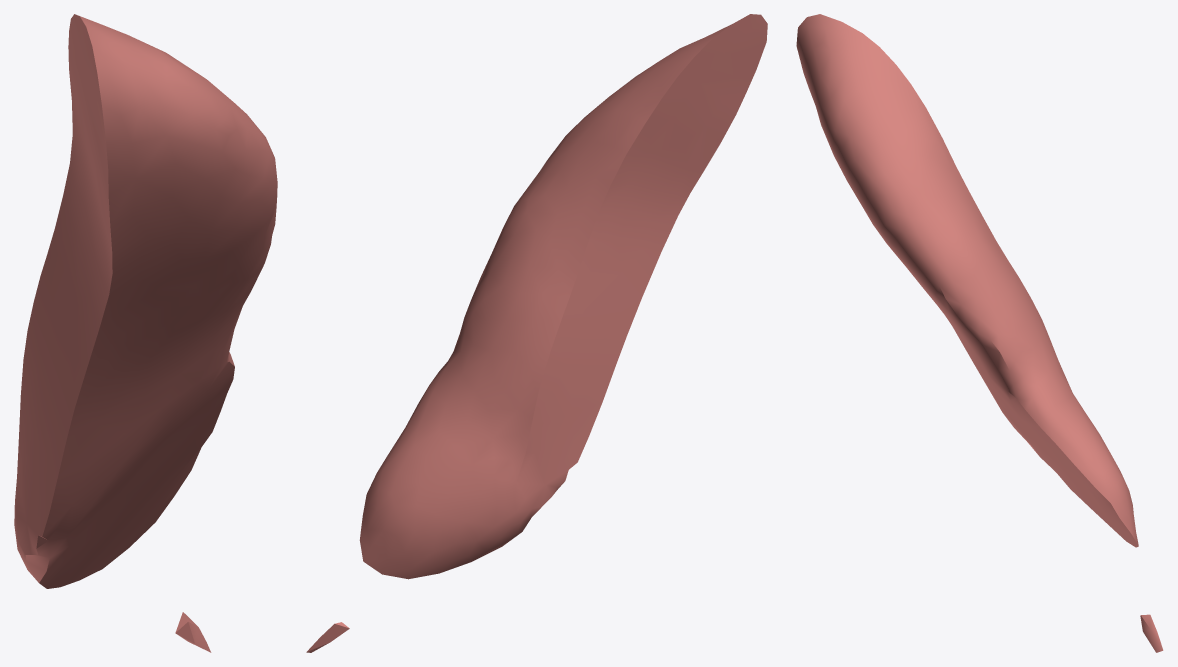
Rendered from fma298601_mm4001m.glb.
3 views of the same model, side by side, from view 1: azimuth 30°, elevation 25°; view 2: azimuth 150°, elevation 25°; view 3: azimuth 270°, elevation 25° (orthographic). The views are drawn at different scales.
Parts seen in each view (by area): view 1: FMA298601_MM4001M; view 2: FMA298601_MM4001M; view 3: FMA298601_MM4001M.
Boxes of the visible parts, x1,y1,x2,y2 form: FMA298601_MM4001M: (14, 14, 277, 652); FMA298601_MM4001M: (306, 14, 767, 652); FMA298601_MM4001M: (796, 14, 1163, 652).
Bounding box in the file's own units: 0.0219 × 0.0452 × 0.0287.
